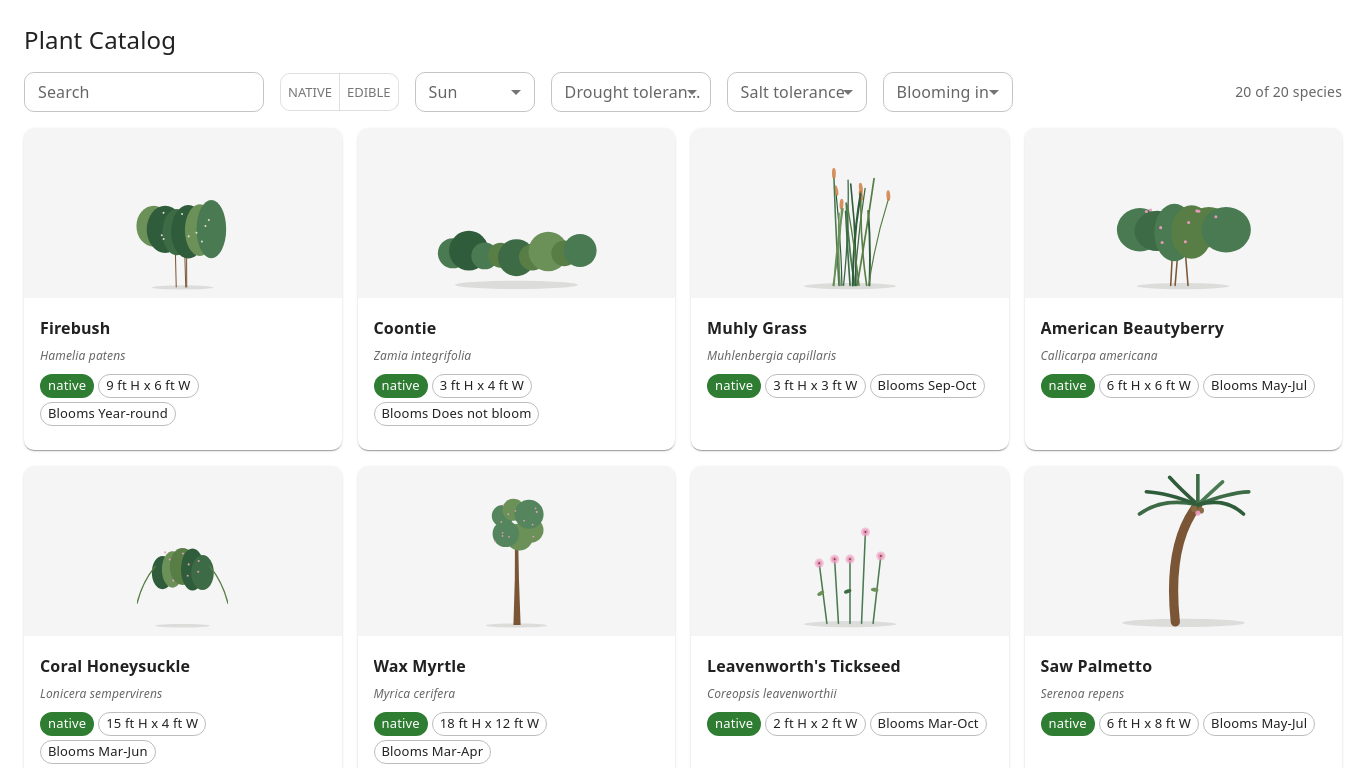
Test: CatalogView › filters the grid to matches as the user types a search term
Expected: the heading "Firebush" is shown, [40,317,110,339]
Type "muhly" into the field labelled "Search" at (144, 92), box [24,72,264,112]
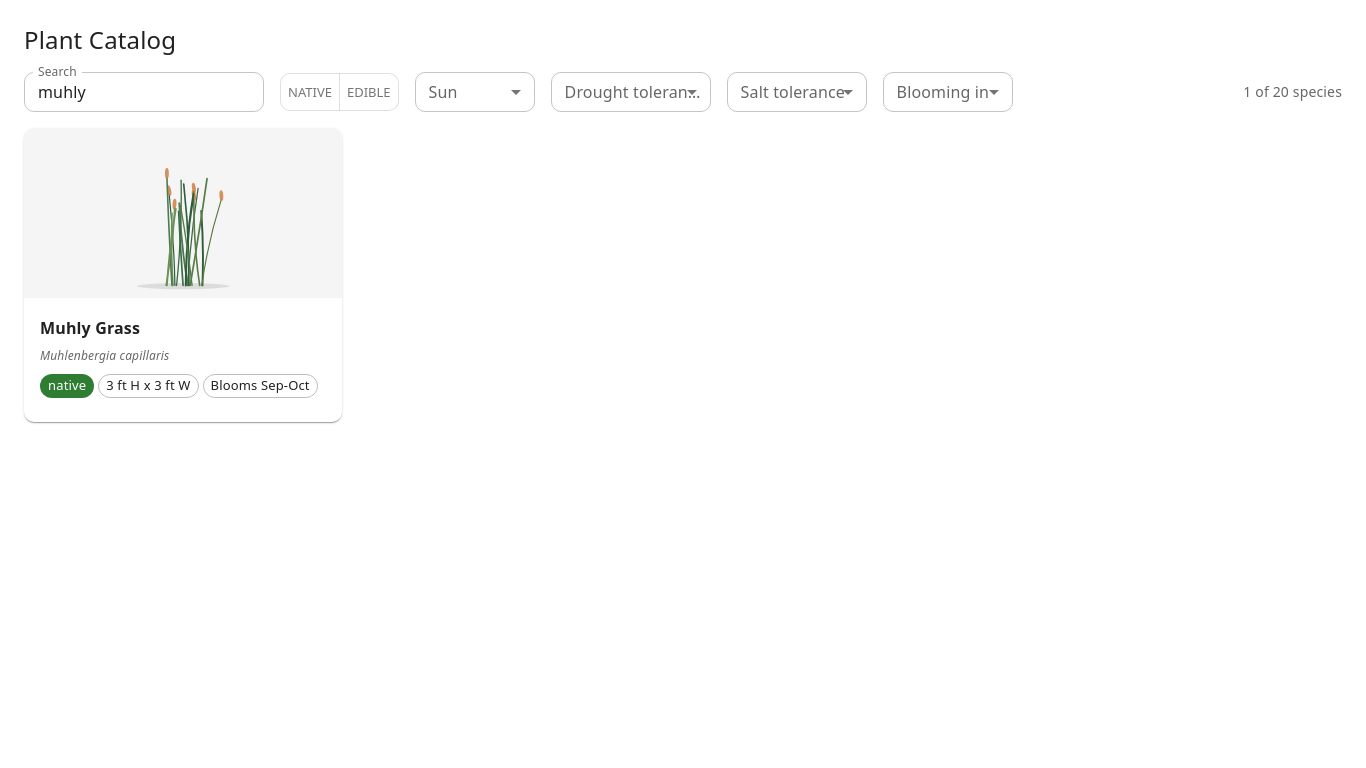
Expected: the heading "Muhly Grass" is shown, [40,317,140,339]
Now the heading "Firebush" is gone
